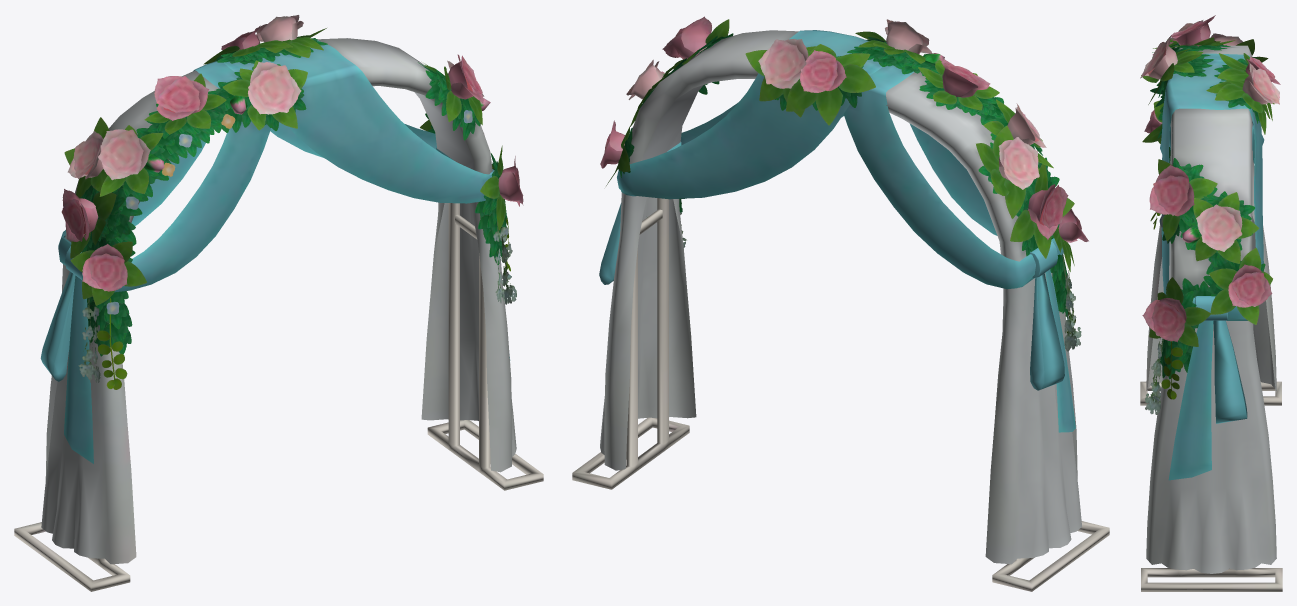
The model's file is wedding-arch.glb.
3 views of the same model, side by side, from view 1: azimuth 30°, elevation 25°; view 2: azimuth 150°, elevation 25°; view 3: azimuth 270°, elevation 25° (orthographic). The views are drawn at different scales.
Size of the model in its own units: 25.71 by 25.74 by 7.69.
Materials: 1 (1 with a texture image).
